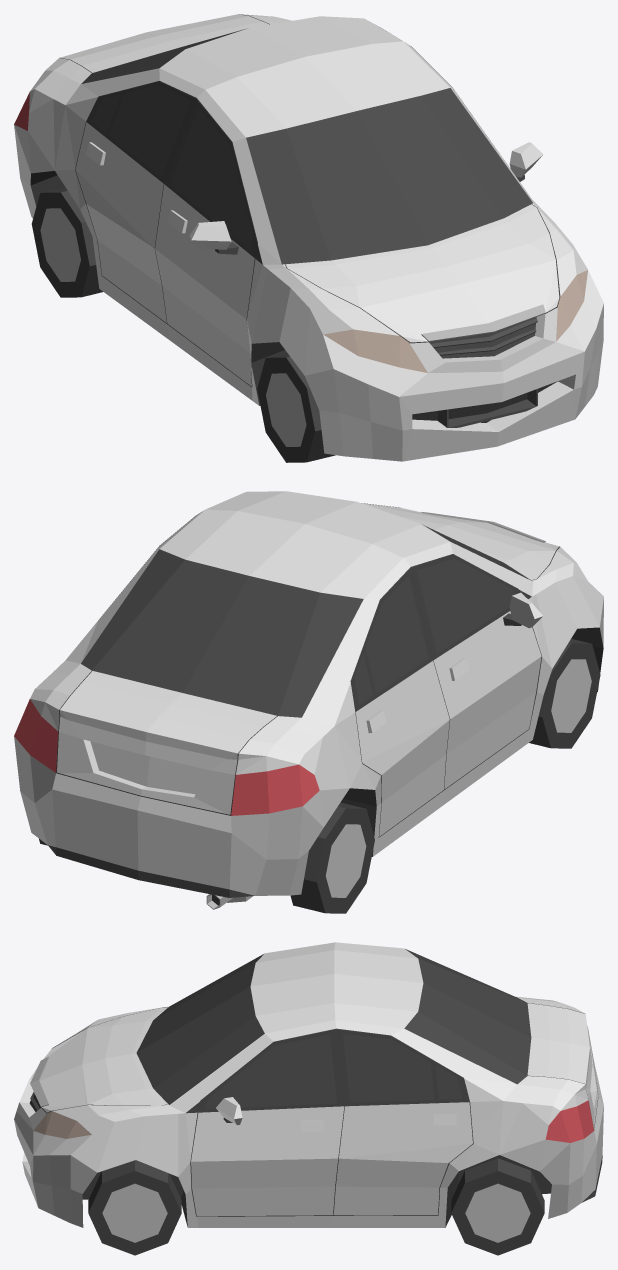
File: CarSedan1White.fbx
The picture shows the model from 3 angles, top to bottom: view 1: azimuth 30°, elevation 25°; view 2: azimuth 150°, elevation 25°; view 3: azimuth 270°, elevation 25°; orthographic projection. The views are drawn at different scales.
Parts seen in each view (by area): view 1: Cube, wheel_rr, wheel_fr; view 2: Cube, wheel_rr, wheel_fr; view 3: Cube, wheel_rl, wheel_fl.
Boxes of the visible parts, bbox=[...] form: Cube: bbox=[14, 14, 603, 461]; wheel_rr: bbox=[31, 187, 102, 297]; wheel_fr: bbox=[257, 353, 335, 462]; Cube: bbox=[14, 491, 603, 909]; wheel_rr: bbox=[290, 802, 374, 913]; wheel_fr: bbox=[529, 638, 600, 748]; Cube: bbox=[14, 942, 603, 1227]; wheel_rl: bbox=[451, 1158, 544, 1255]; wheel_fl: bbox=[88, 1160, 181, 1255].
Bounding box in the file's own units: 2.04 × 1.55 × 3.67.
